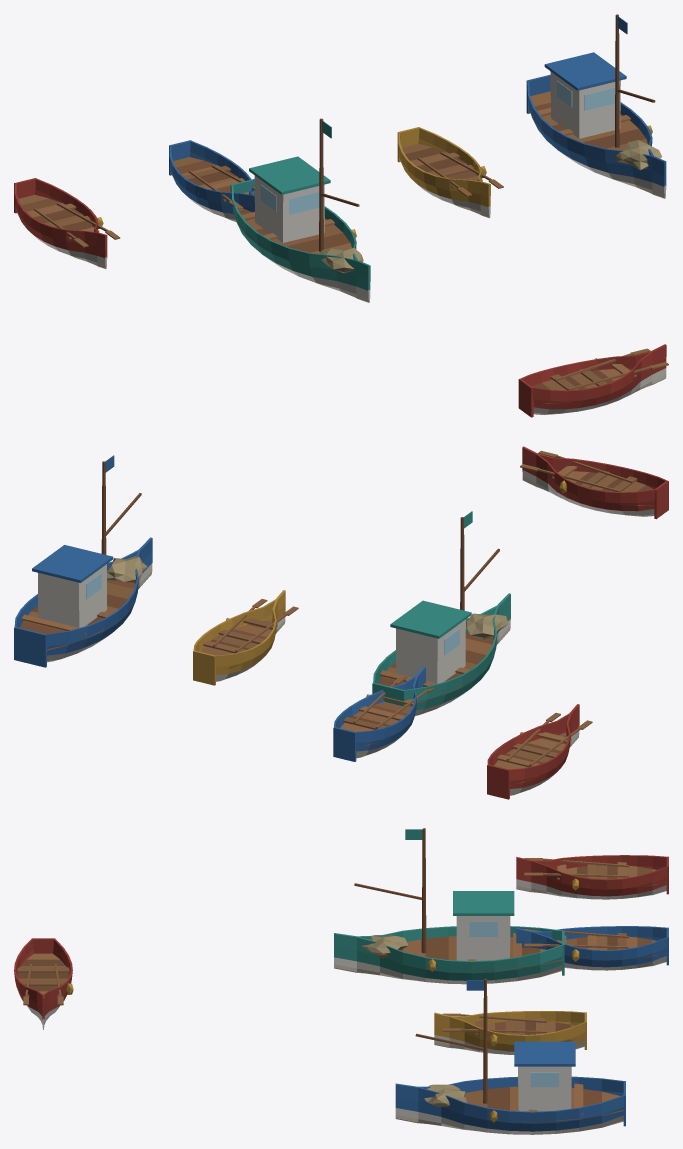
The model's file is boats.glb.
The picture shows the model from 3 angles, top to bottom: view 1: azimuth 30°, elevation 25°; view 2: azimuth 150°, elevation 25°; view 3: azimuth 270°, elevation 25°; orthographic projection. The views are drawn at different scales.
Visible parts, largest first — view 1: BOAT_05, BOAT_03, BOAT_06, BOAT_04, BOAT_01, BOAT_02; view 2: BOAT_05, BOAT_03, BOAT_06, BOAT_04, BOAT_01, BOAT_02; view 3: BOAT_05, BOAT_03, BOAT_01, BOAT_04, BOAT_02, BOAT_06.
Part boxes in pixels (x1,y1,x2,y2): BOAT_05: (526, 14, 666, 198); BOAT_03: (230, 118, 370, 302); BOAT_06: (518, 344, 668, 417); BOAT_04: (397, 127, 503, 218); BOAT_01: (14, 178, 120, 268); BOAT_02: (169, 140, 254, 221); BOAT_05: (14, 455, 152, 667); BOAT_03: (372, 511, 510, 715); BOAT_06: (520, 446, 668, 519); BOAT_04: (193, 590, 298, 685); BOAT_01: (487, 704, 592, 799); BOAT_02: (333, 666, 436, 761); BOAT_05: (395, 978, 625, 1134); BOAT_03: (334, 828, 564, 984); BOAT_01: (516, 855, 668, 899); BOAT_04: (434, 1011, 586, 1054); BOAT_02: (516, 926, 668, 970); BOAT_06: (14, 938, 73, 1029).
Size of the model in its own units: 14.87 by 3.98 by 16.
